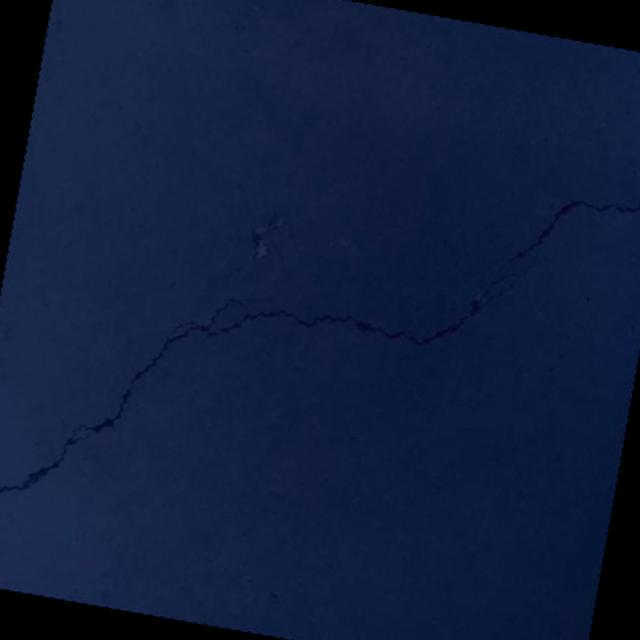crack: (0, 166, 537, 607), (491, 151, 640, 302)
